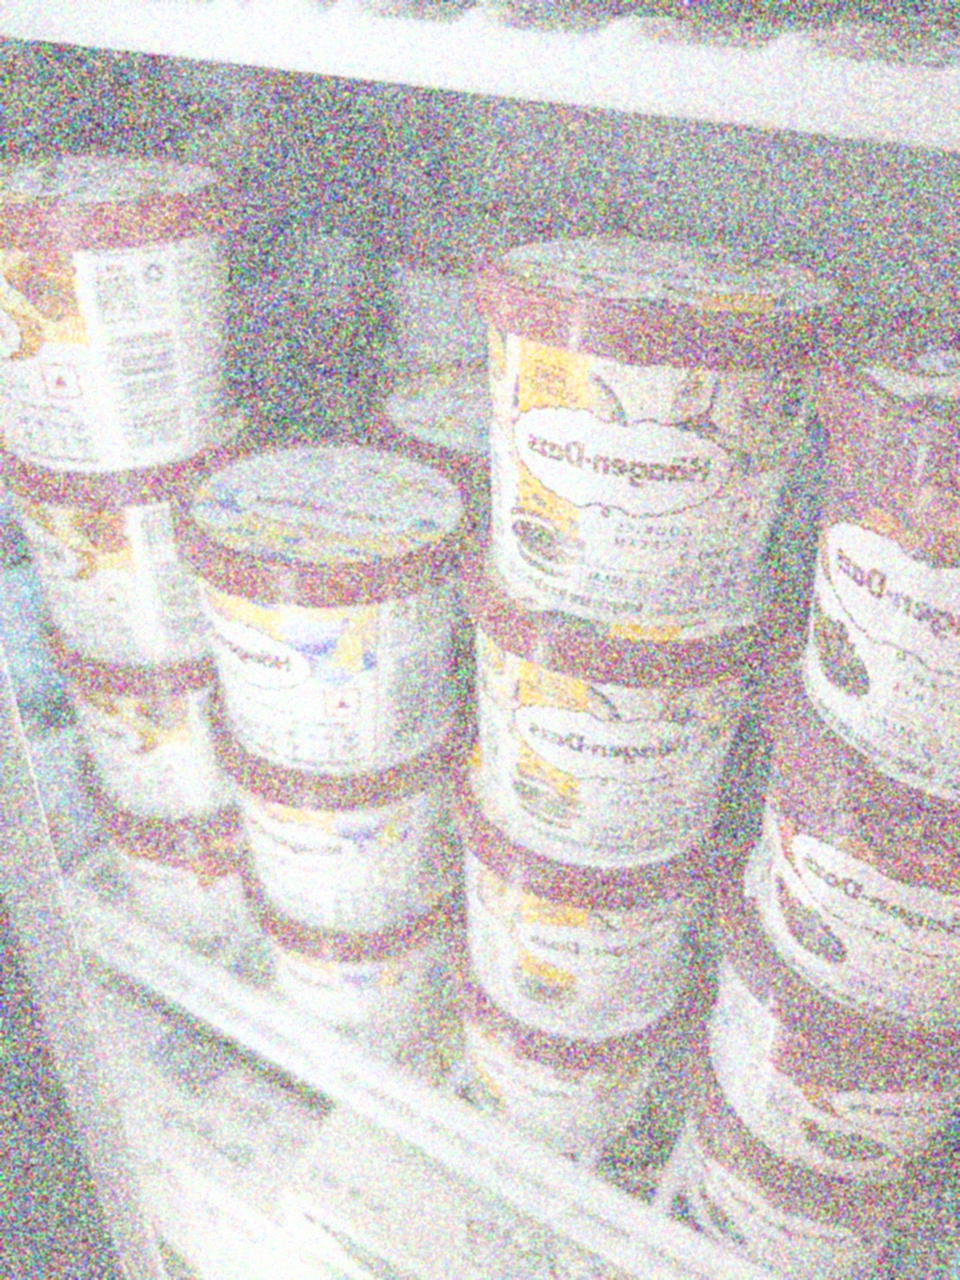Haagen-Dazs IceCream Tub: (457, 226, 867, 617), (181, 423, 473, 774), (464, 558, 746, 895), (0, 138, 239, 479), (759, 405, 960, 790), (462, 784, 704, 1035), (755, 747, 960, 1040), (29, 394, 255, 648), (695, 968, 960, 1175), (230, 714, 473, 937), (70, 631, 226, 836)
